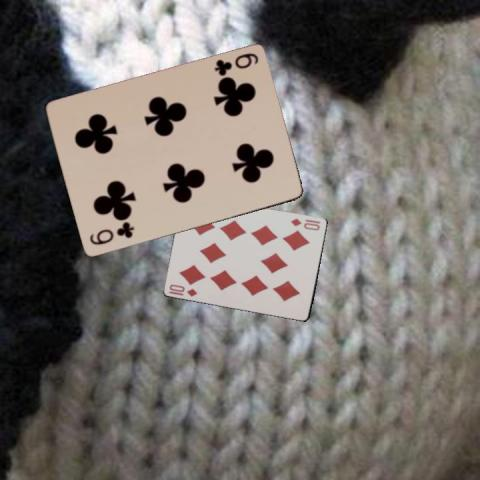10d: (288, 215, 321, 232), (166, 281, 199, 298)
6c: (211, 50, 260, 78), (86, 220, 135, 247)
